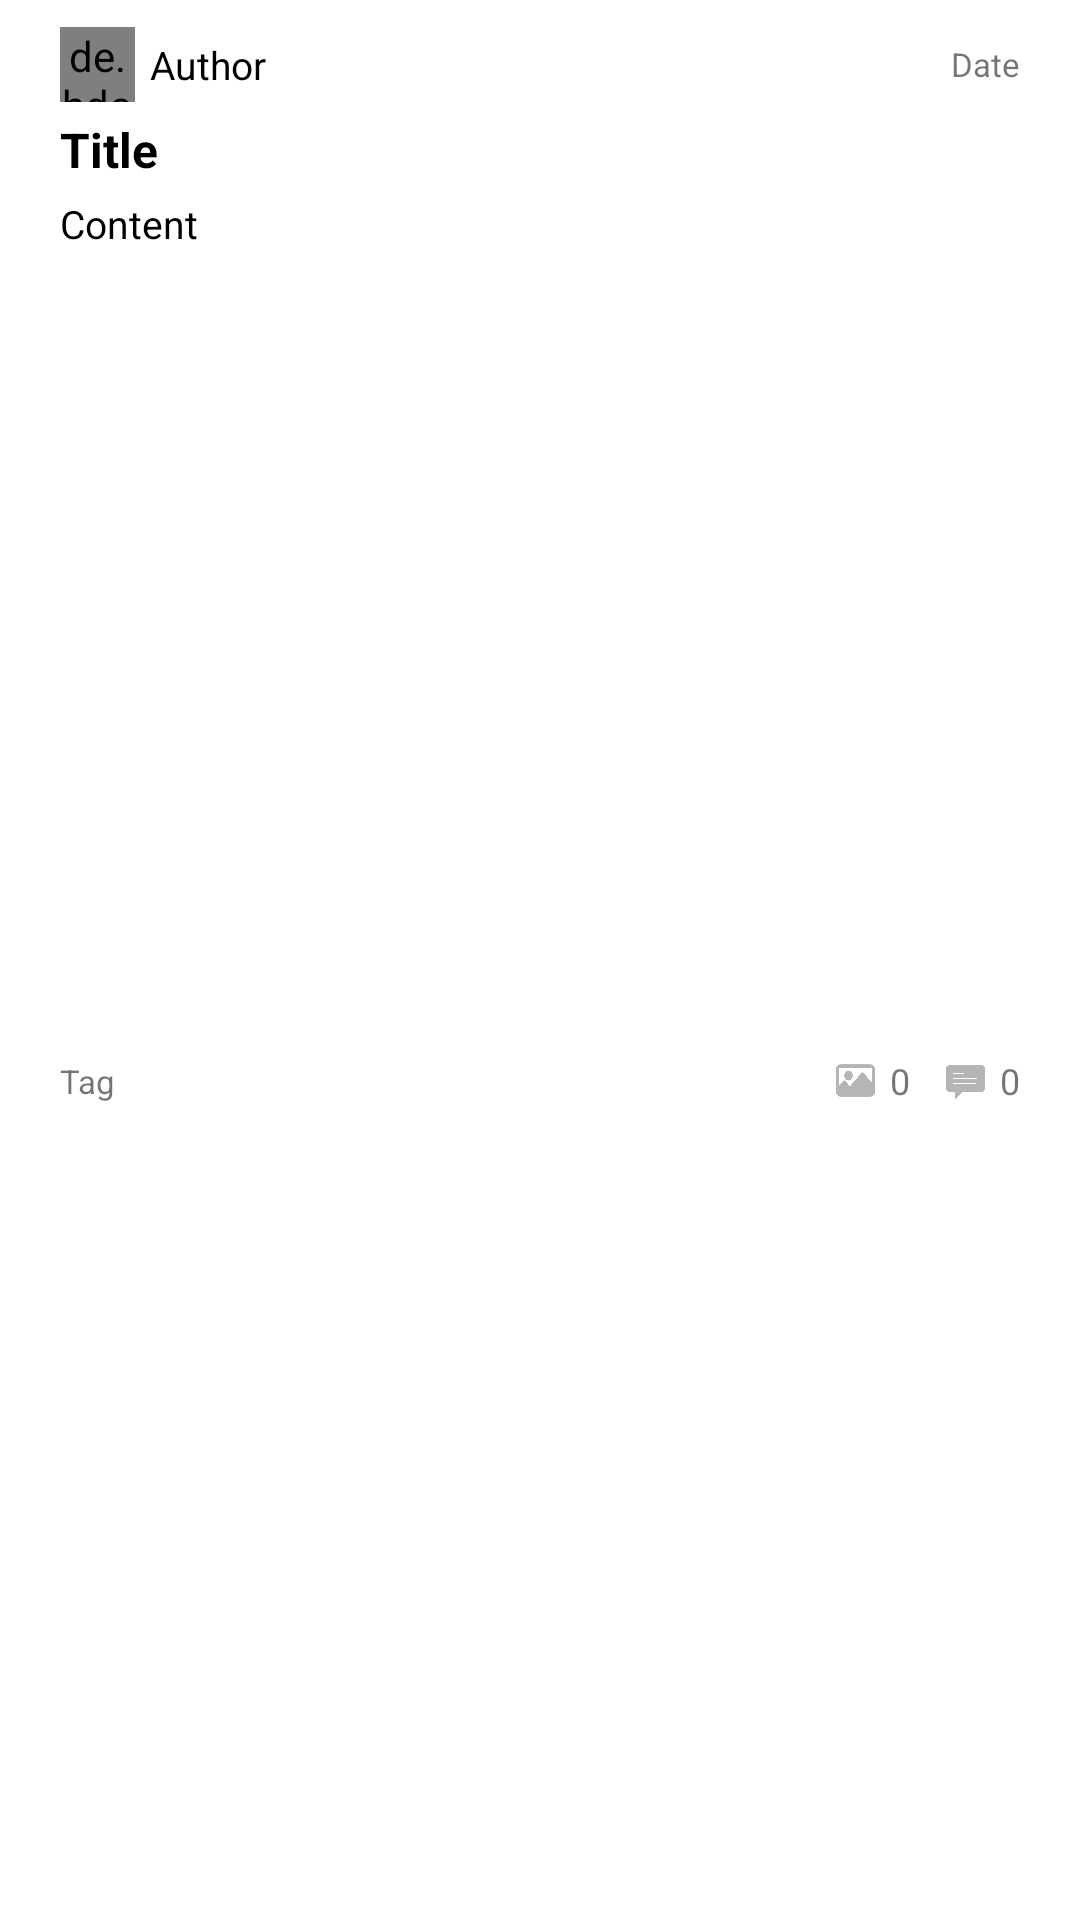

Locate icon controls on the screen. Image size 1080px x 1920px, boxes as (x1, y1, x2, y2).
chat: (946, 1065, 985, 1099)
